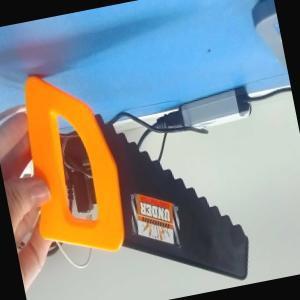serrote: (18, 40, 256, 300)
